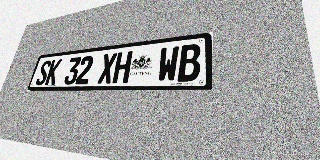2: (75, 55, 94, 84)
3: (63, 57, 82, 85)
B: (177, 43, 201, 82)
H: (112, 51, 133, 83)
K: (44, 59, 62, 85)
S: (35, 60, 52, 85)
W: (157, 46, 179, 82)
X: (97, 53, 117, 84)
